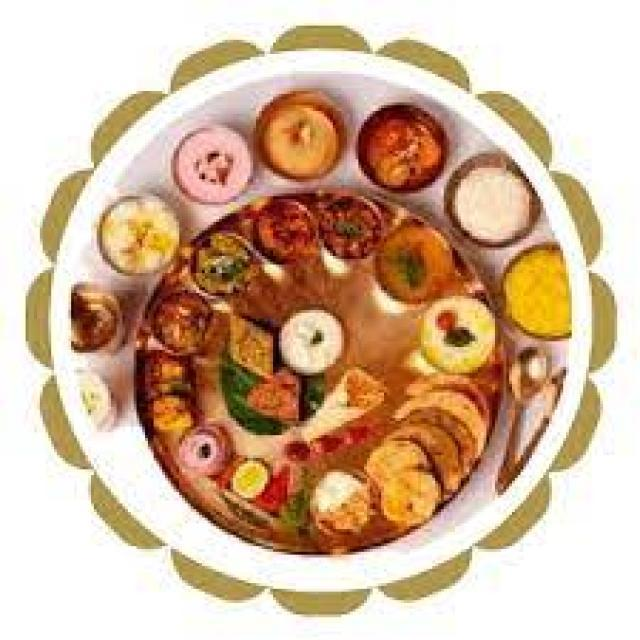dal: (495, 252, 580, 340)
pickle: (352, 106, 452, 193), (54, 285, 142, 363), (162, 426, 241, 490), (232, 367, 312, 430)
raita: (60, 363, 127, 436)
sweet: (243, 90, 360, 193), (441, 151, 548, 254), (348, 101, 457, 202), (401, 283, 508, 380), (90, 188, 189, 283), (164, 126, 260, 215), (262, 300, 361, 382), (157, 422, 241, 492), (59, 292, 138, 360)
